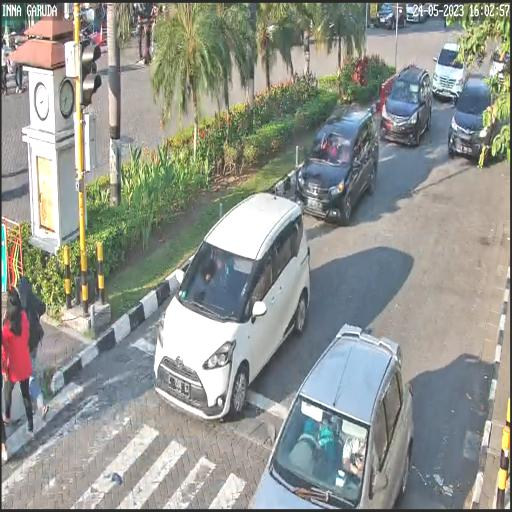mobil: (152, 191, 310, 424), (247, 328, 415, 510), (296, 100, 379, 225), (380, 59, 433, 149), (448, 77, 494, 164), (430, 38, 466, 104)
